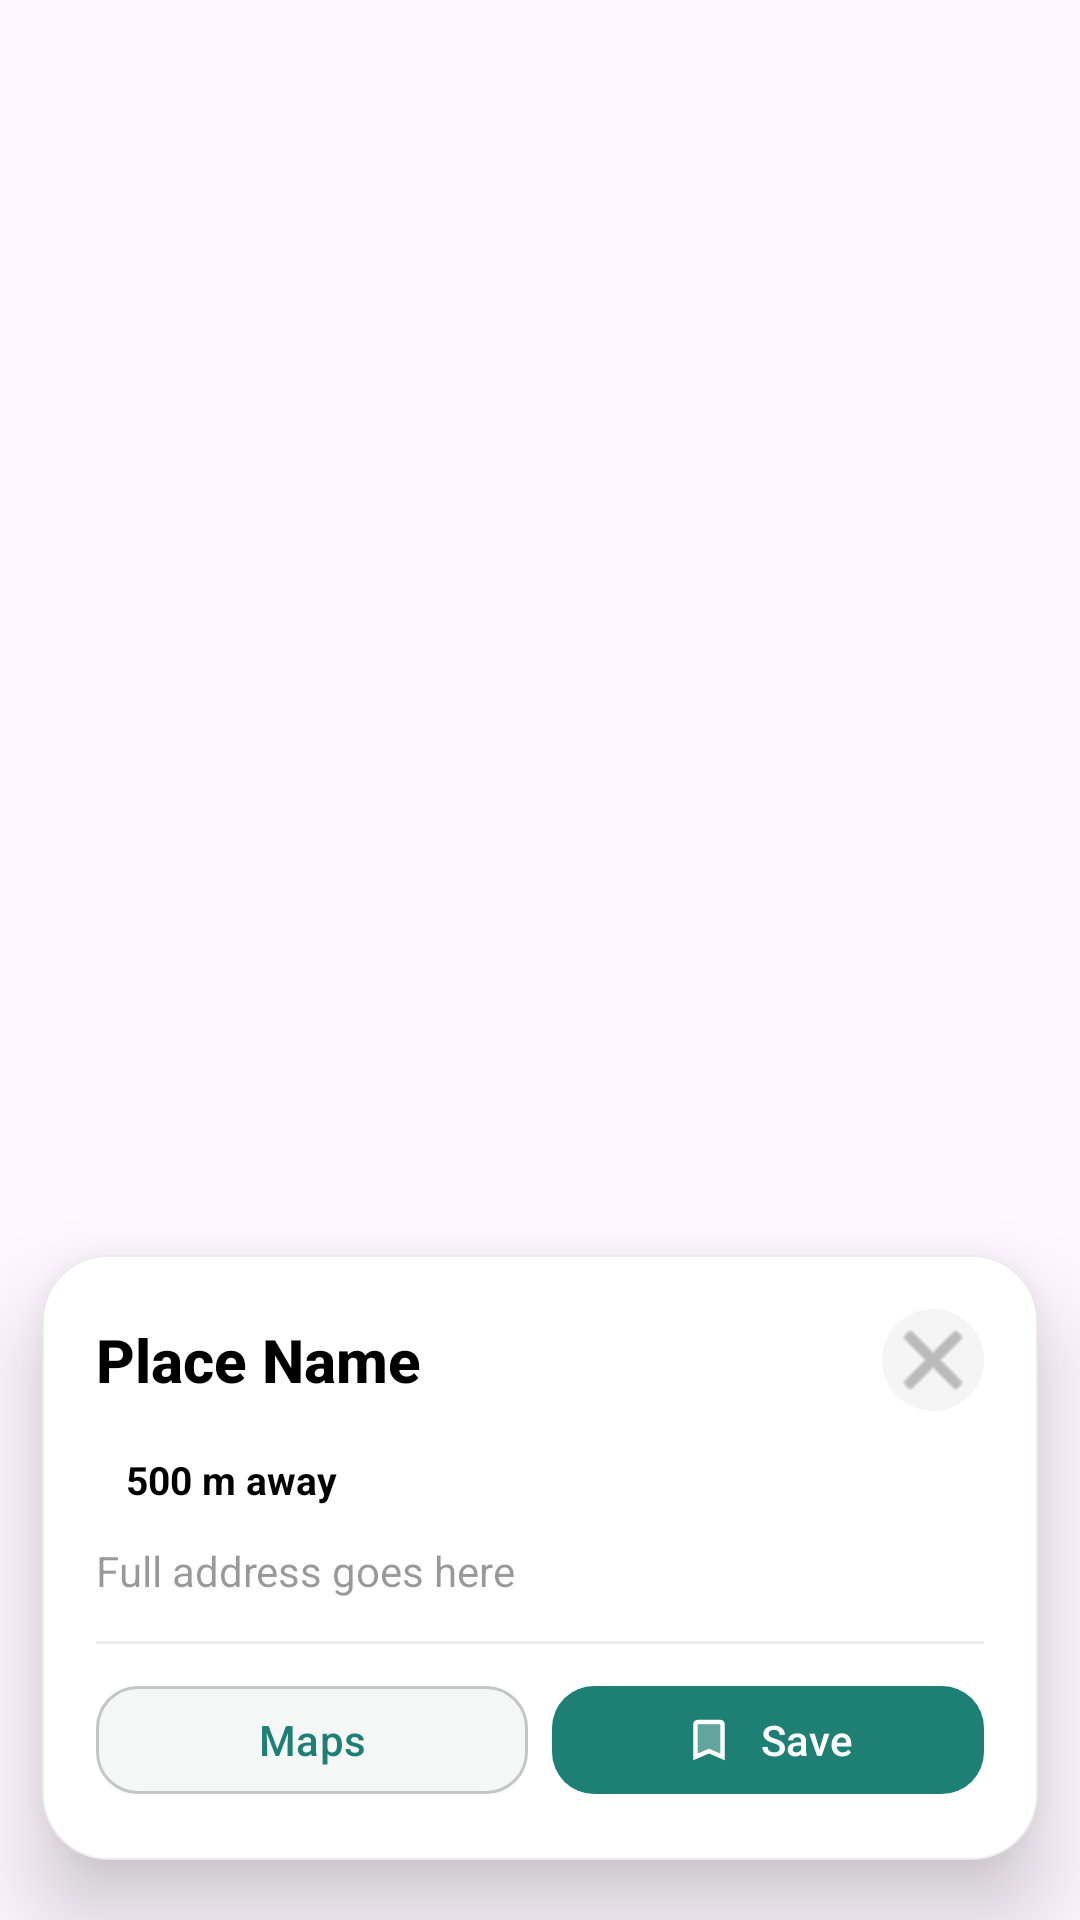

Icon bounding boxes for this 1080×1920 phone screenshot, format box(x1, y1, x2, y2):
close clear cancel: box(882, 1309, 984, 1411)
